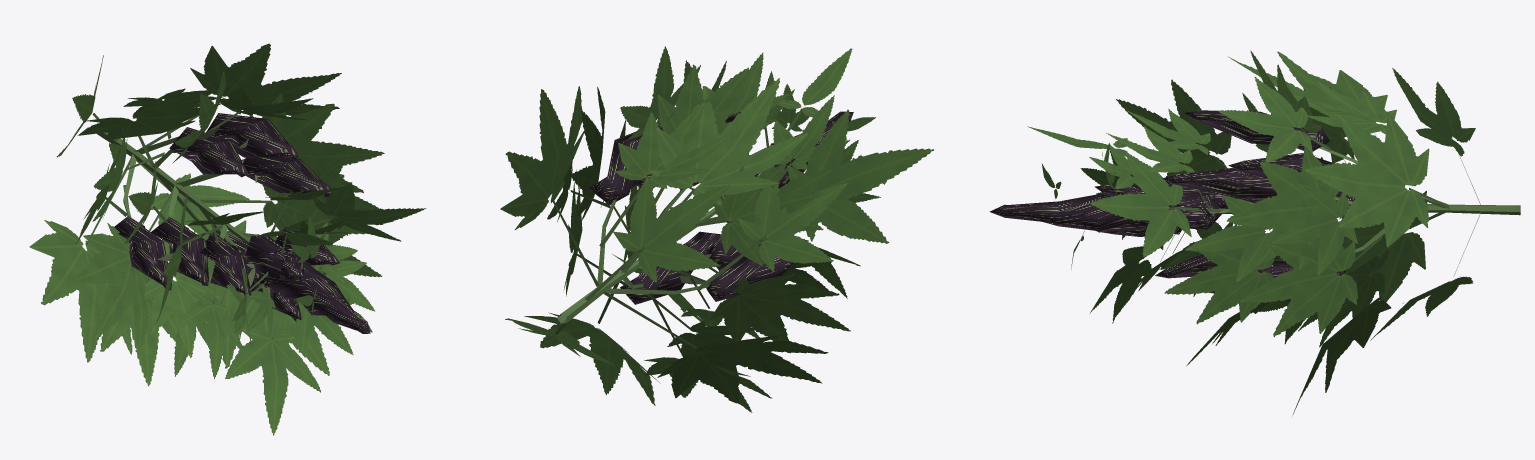
The model's file is p_dark_tree_flowering_c0_cards.obj.
The picture shows the model from 3 angles, left to right: view 1: azimuth 30°, elevation 25°; view 2: azimuth 150°, elevation 25°; view 3: azimuth 270°, elevation 25°; orthographic projection. The views are drawn at different scales.
Bounding box in the file's own units: 1.39 × 1.41 × 1.79.
1 material, 1 textured.
